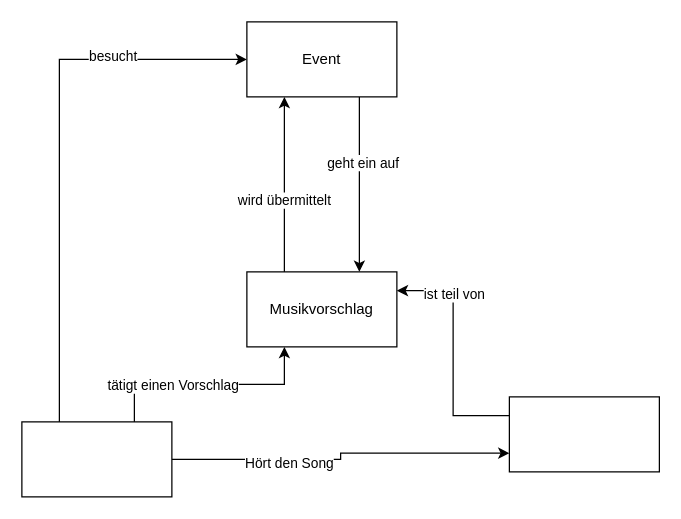
Some shapes in this 681 by 519 pixel diagram are drawn without their labels. Here are the shapes that lost their labels. From the top down, the box of each, then its label:
(508, 396, 659, 472): Song
(21, 421, 172, 497): Besucher
